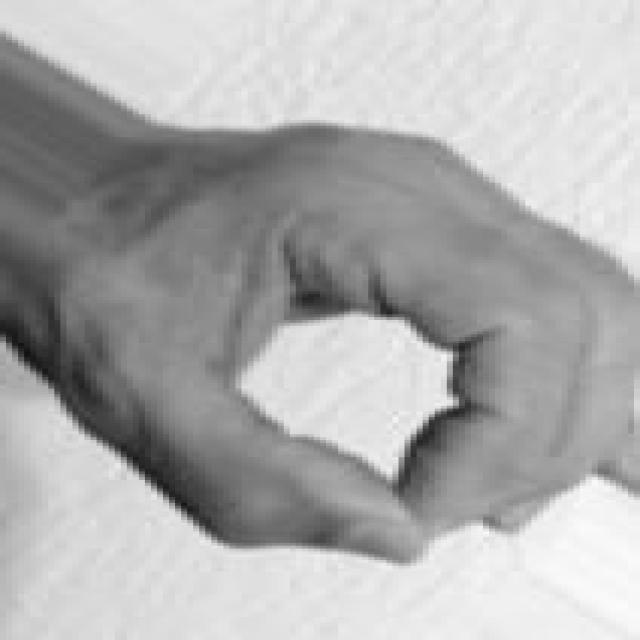O: (40, 114, 640, 572)
